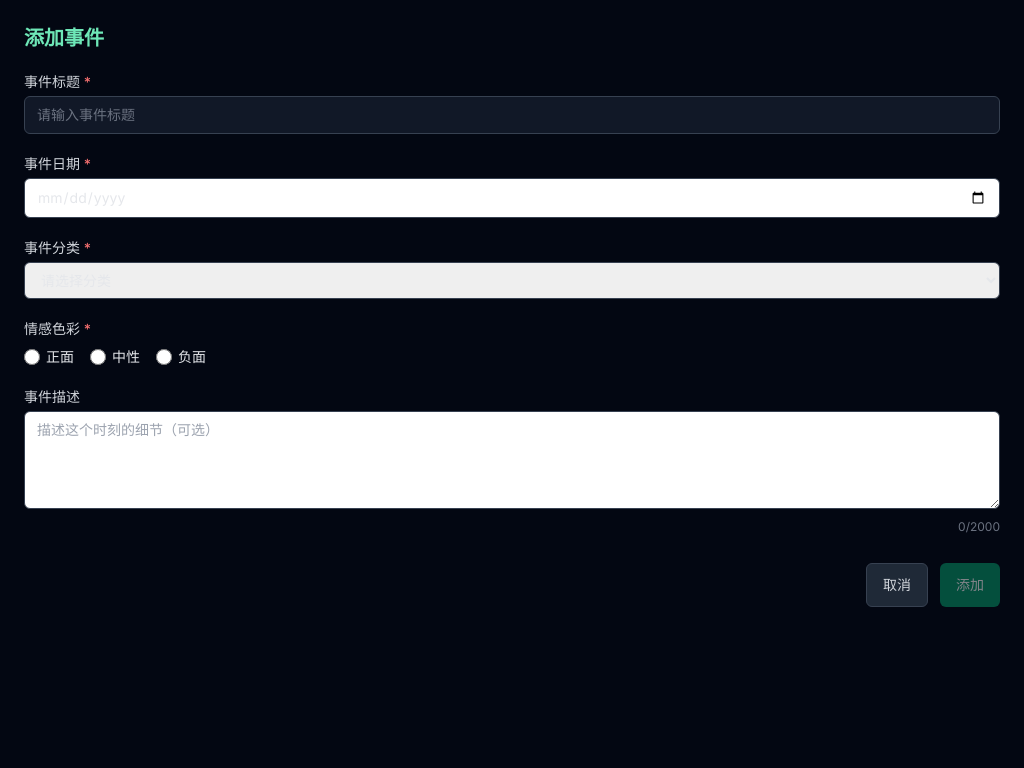
Scenario: EventForm › Sentiment validation › should show error when no sentiment is selected after form submit attempt
Note: Fill required fields except sentiment
Type "Test Event" into the field labelled "事件标题 *" at (512, 115), box [24,96,1000,134]
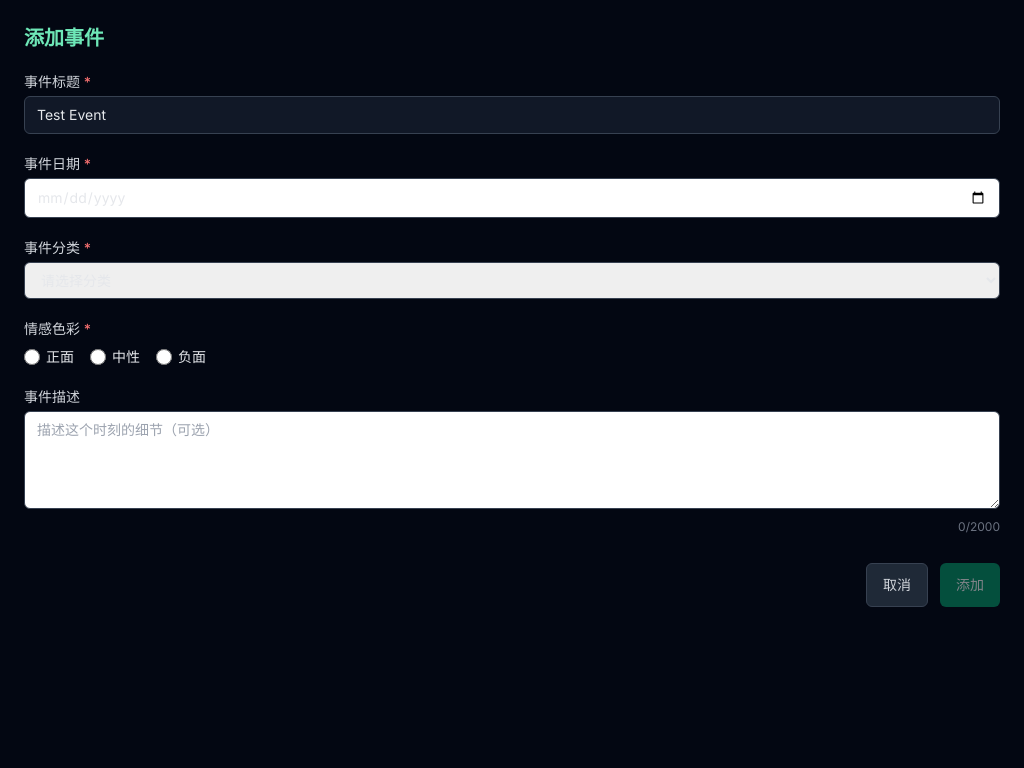
Type "2024-03-15" into the date field labelled "事件日期 *" at (512, 198), box [24,178,1000,218]
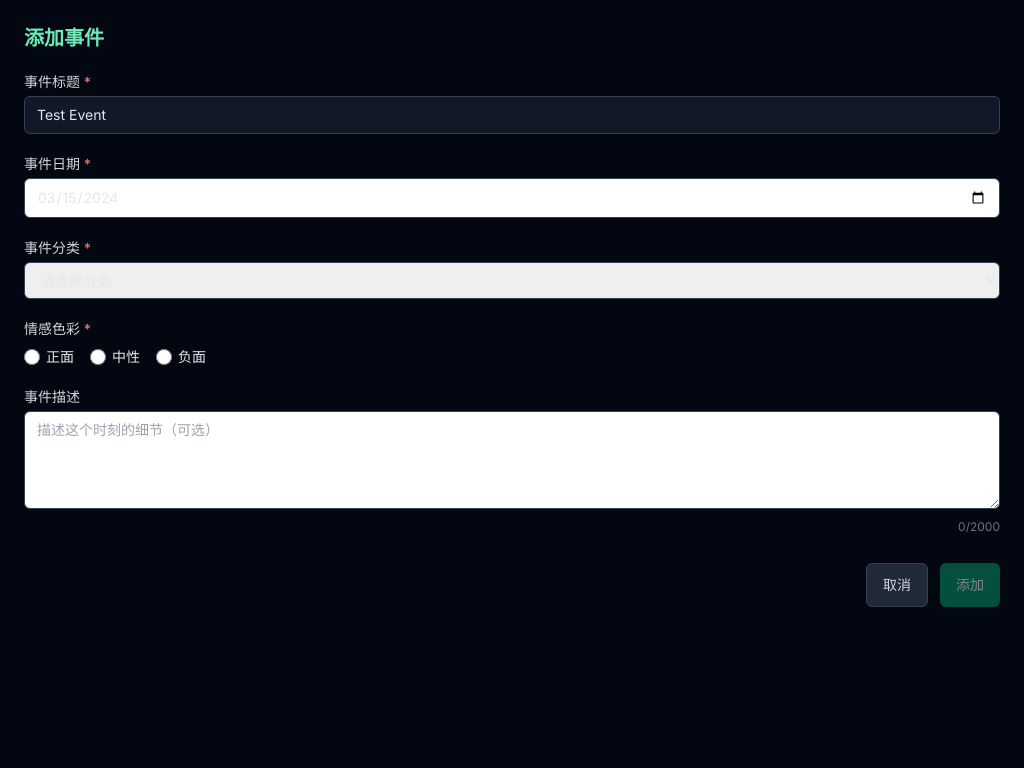
Select "💼 工作" in the dropdown labelled "事件分类 *" at (512, 280), box [24,262,1000,299]
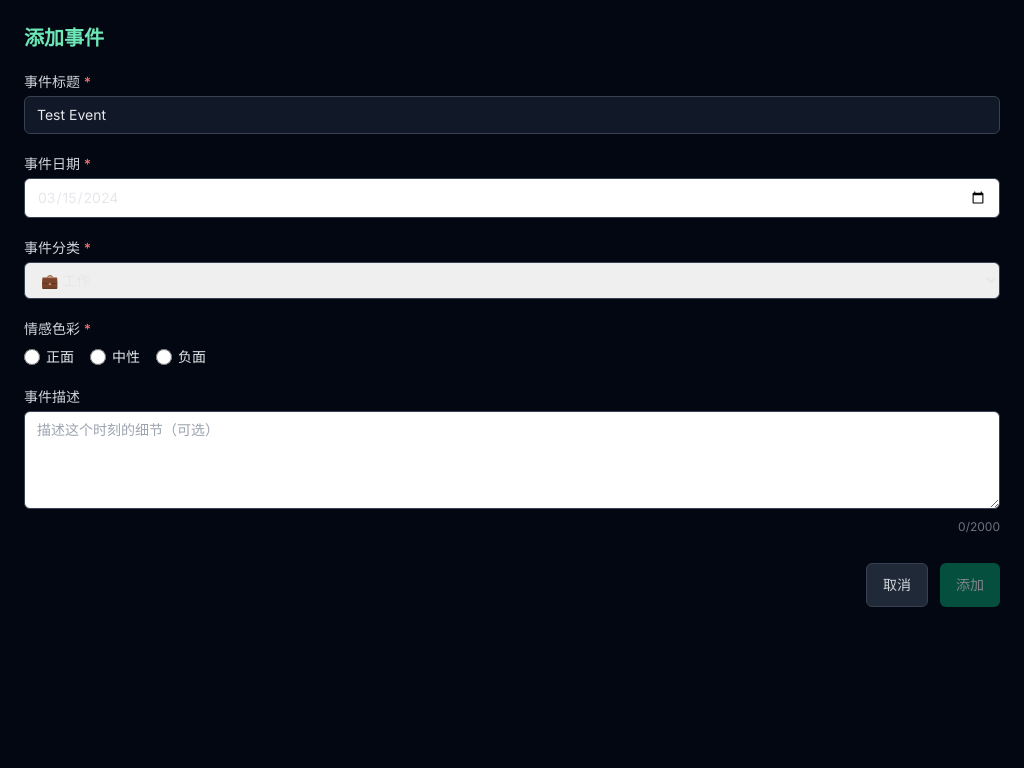
Note: Try to submit - this will mark all fields as touched
Submit the form "添加事件 事件标题 * 事件日期 * 事件分类 * 情感色彩 * 正面 中性 负面 事件描述 0/2000 取消 添加"
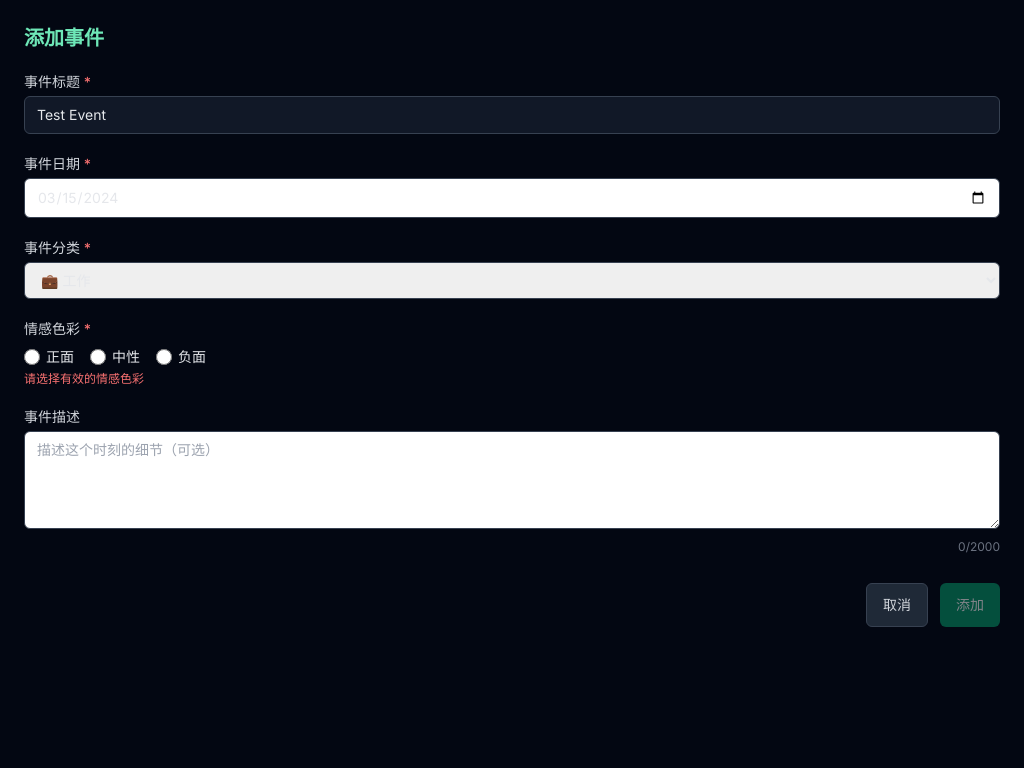
Check: the text "请选择有效的情感色彩" is shown, box [24,371,144,386]
